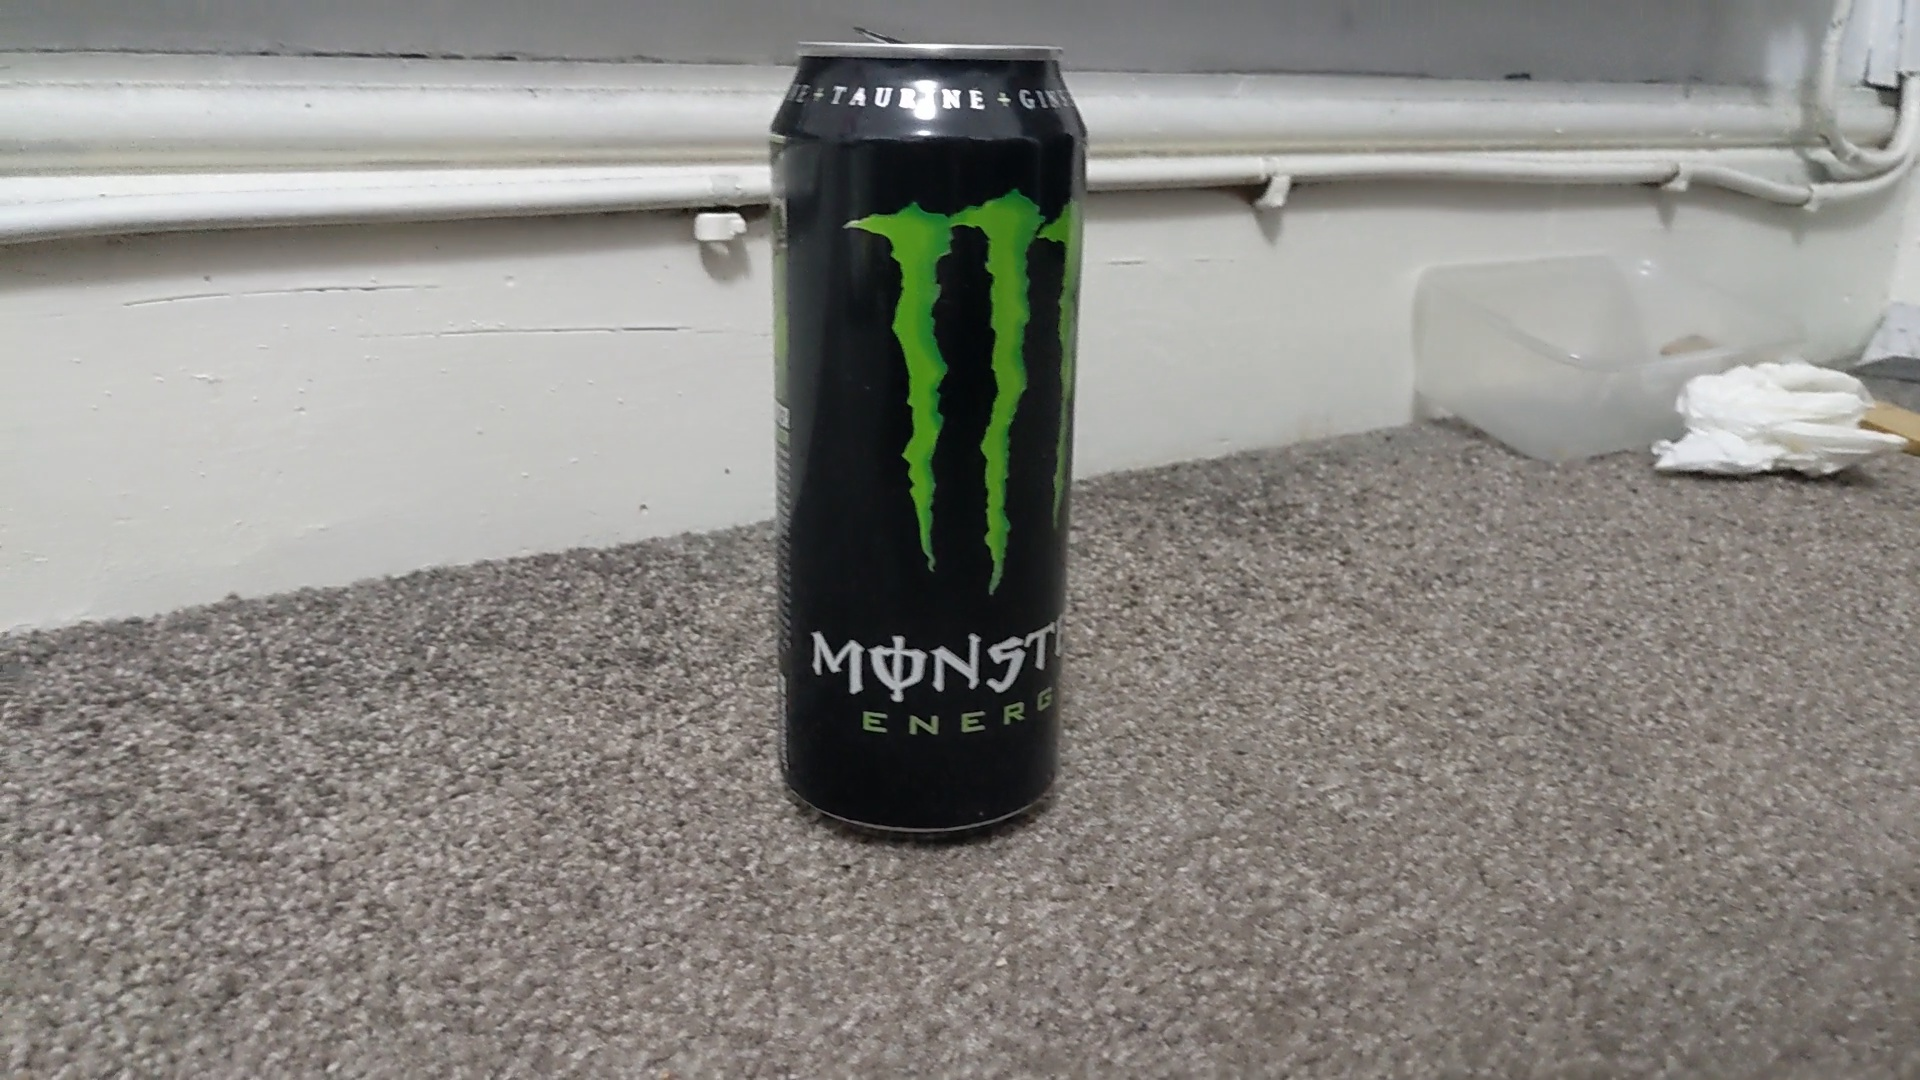monster-original: (758, 36, 1093, 844)
